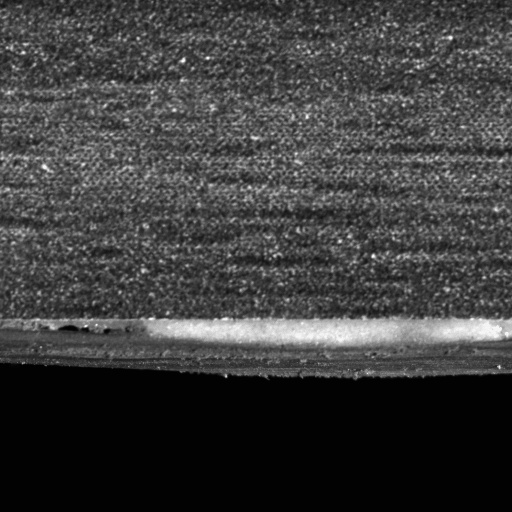kaijiao: (0, 314, 511, 383)
